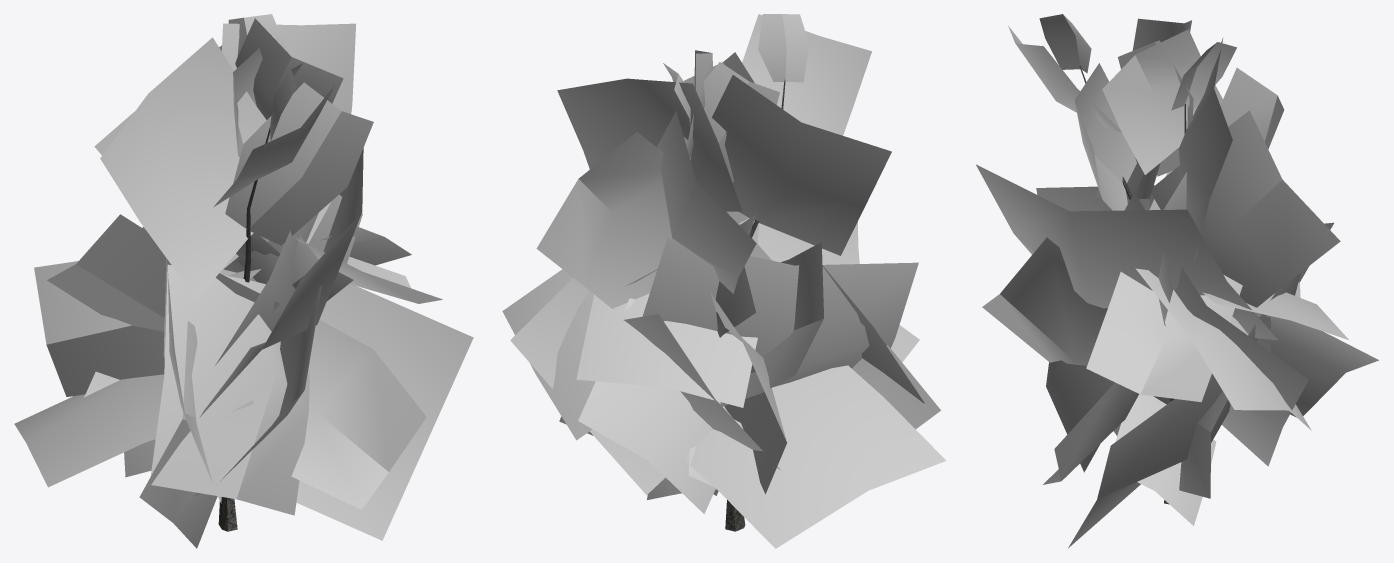
Rendered from tree_1_4.gltf.
3 views of the same model, side by side, from view 1: azimuth 30°, elevation 25°; view 2: azimuth 150°, elevation 25°; view 3: azimuth 270°, elevation 25° (orthographic). The views are drawn at different scales.
Visible parts, largest first — view 1: Tree-01-4; view 2: Tree-01-4; view 3: Tree-01-4.
Boxes of the visible parts, box(x1,y1,x2,y2) form: Tree-01-4: box(14, 14, 473, 548); Tree-01-4: box(502, 14, 946, 548); Tree-01-4: box(976, 14, 1378, 548).
Size of the model in its own units: 4.72 by 5.41 by 4.02.
